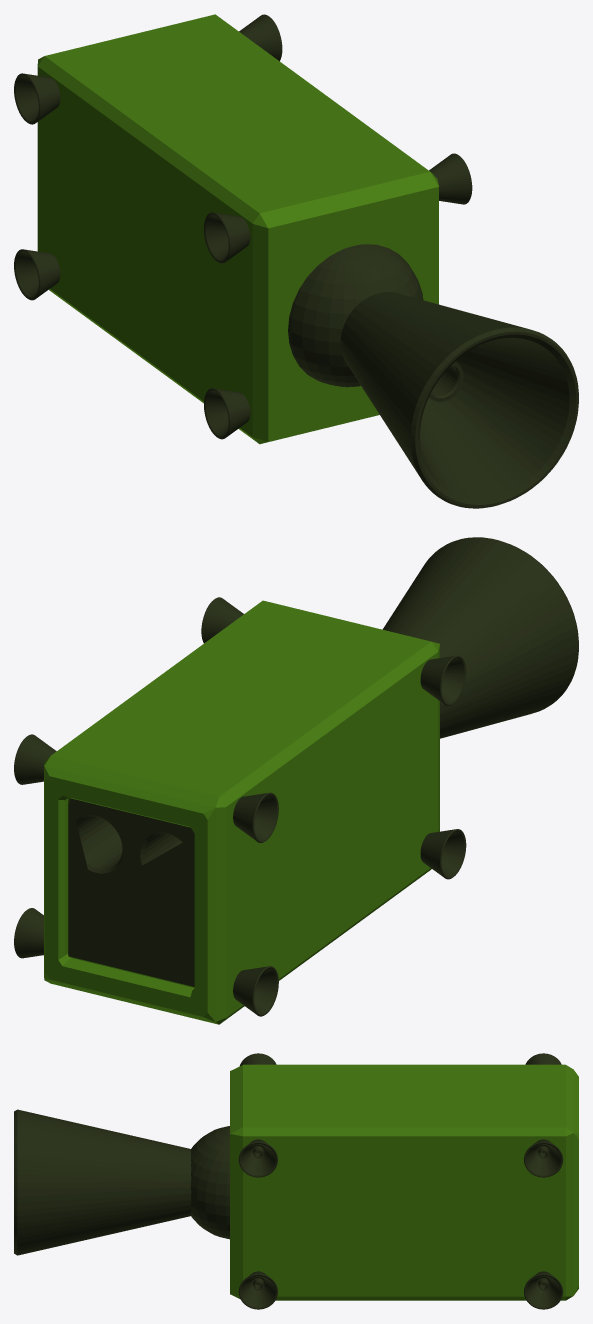
Rendered from missilebox.fbx.
3 renders of one model, top to bottom at view 1: azimuth 30°, elevation 25°; view 2: azimuth 150°, elevation 25°; view 3: azimuth 270°, elevation 25°, orthographic. The views are drawn at different scales.
Visible parts, largest first — view 1: 円柱.001, 球; view 2: 円柱.001, 球; view 3: 円柱.001, 球.
Part boxes in pixels (x1,y1,x2,y2): 円柱.001: [14, 14, 472, 444]; 球: [288, 244, 578, 508]; 円柱.001: [14, 597, 466, 1024]; 球: [382, 537, 578, 738]; 円柱.001: [230, 1053, 578, 1309]; 球: [14, 1109, 229, 1255].
Bounding box in the file's own units: 220 × 200 × 591.
